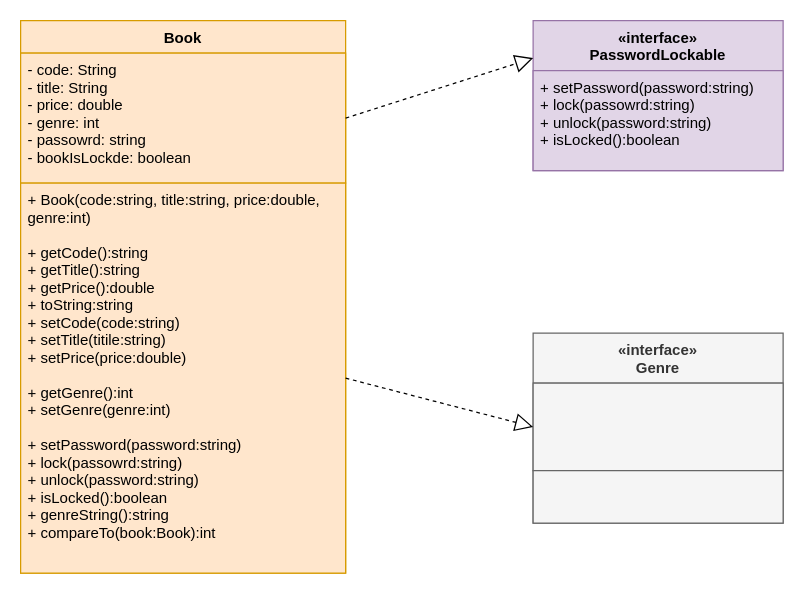
Some shapes in this 804 by 594 pixel diagram are drawn without their labels. The shapes that lost their labels are listed below. From the top down, each one's centre as x and y in pixels, then its label:
At (657,426): "+ UNCLASSIFIED:int + action:int + comedy:int + horror:int".
At (657,496): "+ getGenre():int + setGenre(genre:int)".
